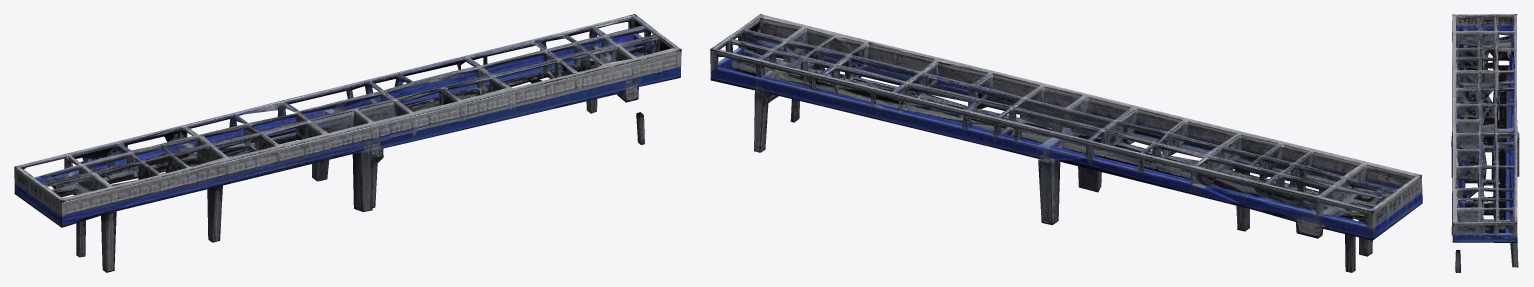
Rendered from ceiling-wires.glb.
3 views of the same model, side by side, from view 1: azimuth 30°, elevation 25°; view 2: azimuth 150°, elevation 25°; view 3: azimuth 270°, elevation 25° (orthographic). The views are drawn at different scales.
Visible parts, largest first — view 1: geometry_0; view 2: geometry_0; view 3: geometry_0.
Part boxes in pixels (x1,y1,x2,y2): geometry_0: (14,14,681,272); geometry_0: (710,14,1422,272); geometry_0: (1451,14,1519,272).
Bounding box in the file's own units: 1 × 0.1386 × 0.1373.
1 material, 1 textured.
